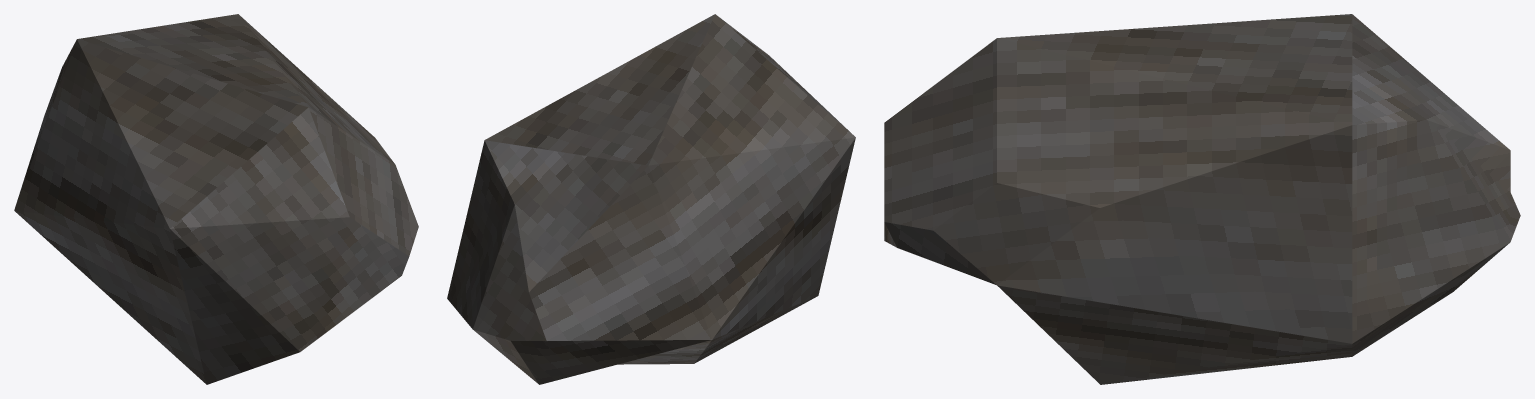
File: rock1.glb
3 renders of one model, left to right at view 1: azimuth 30°, elevation 25°; view 2: azimuth 150°, elevation 25°; view 3: azimuth 270°, elevation 25°, orthographic. The views are drawn at different scales.
Visible parts, largest first — view 1: Rock1; view 2: Rock1; view 3: Rock1.
Boxes of the visible parts, bbox=[...] form: Rock1: bbox=[14, 14, 418, 384]; Rock1: bbox=[447, 14, 855, 384]; Rock1: bbox=[884, 14, 1520, 384].
Size of the model in its own units: 1.7 by 1.69 by 2.99.
1 material, 1 textured.
